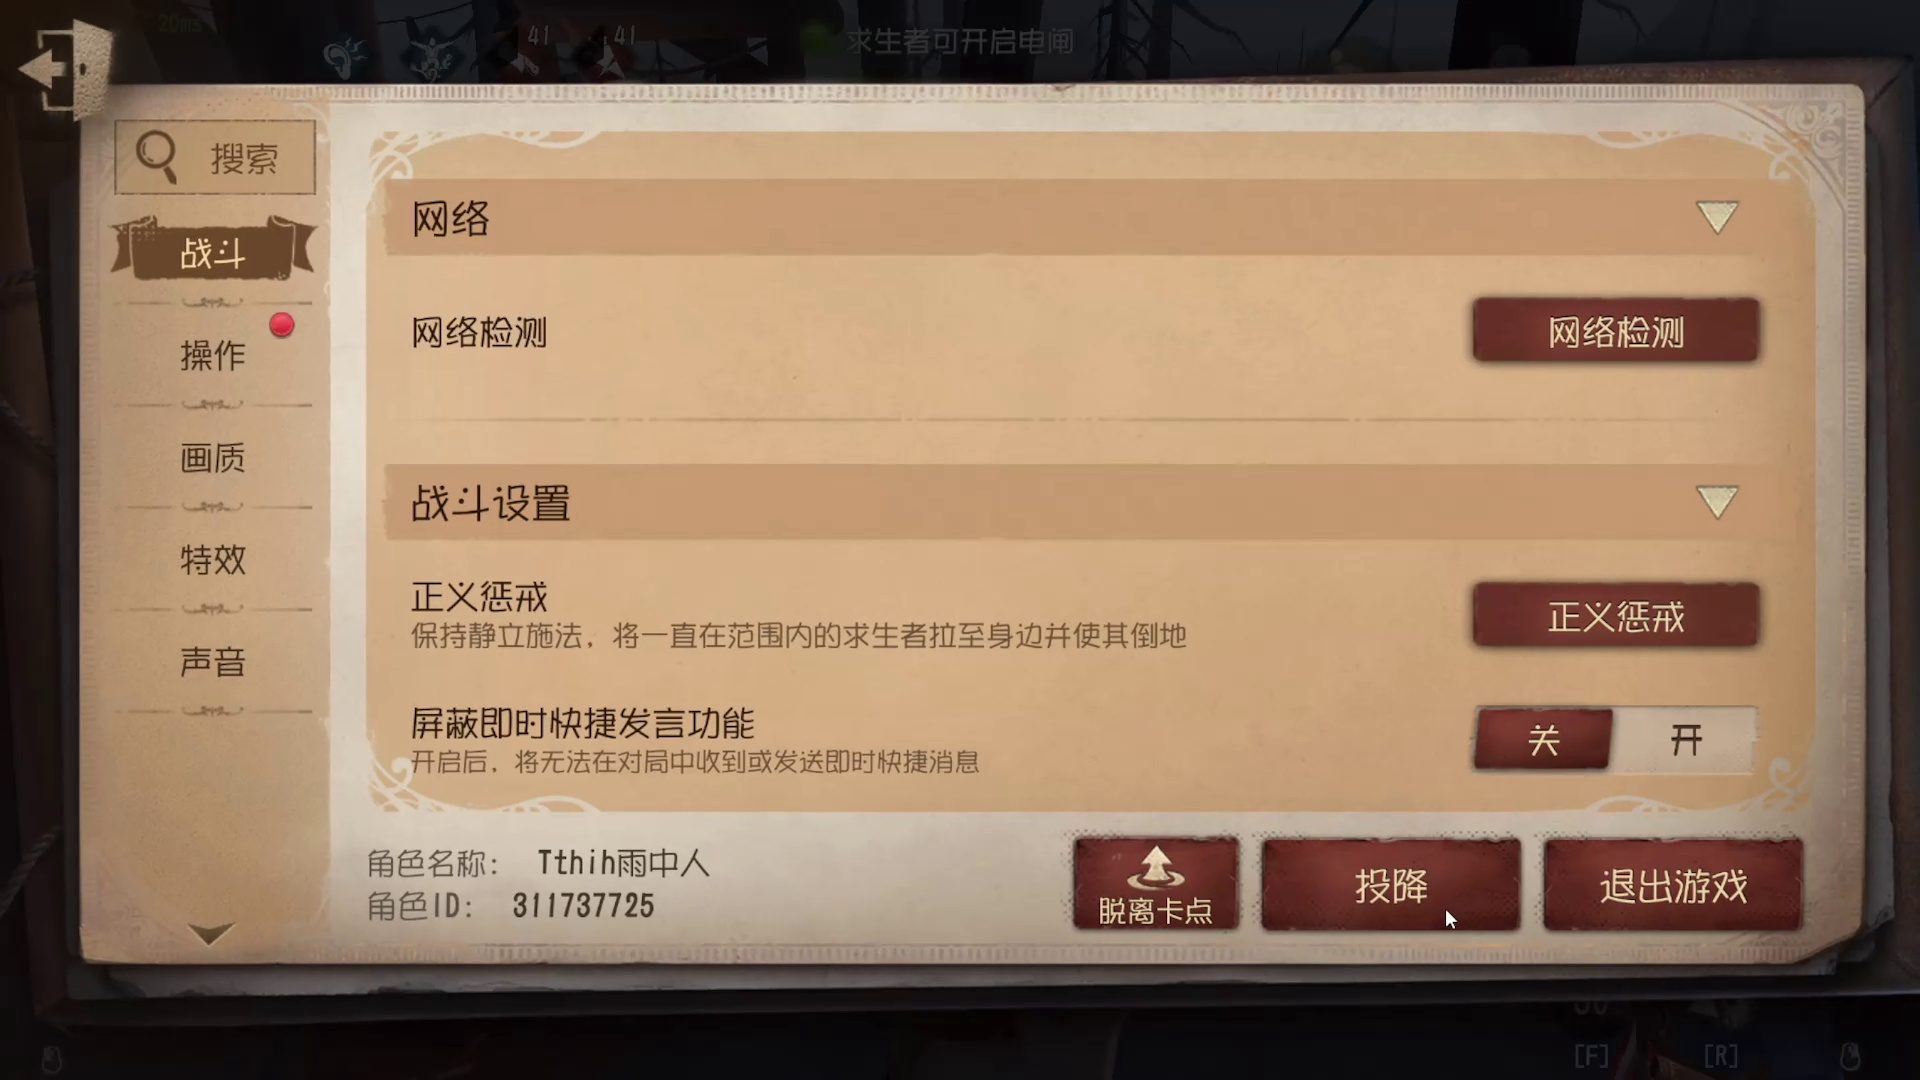退出游戏: (1526, 814, 1829, 953)
